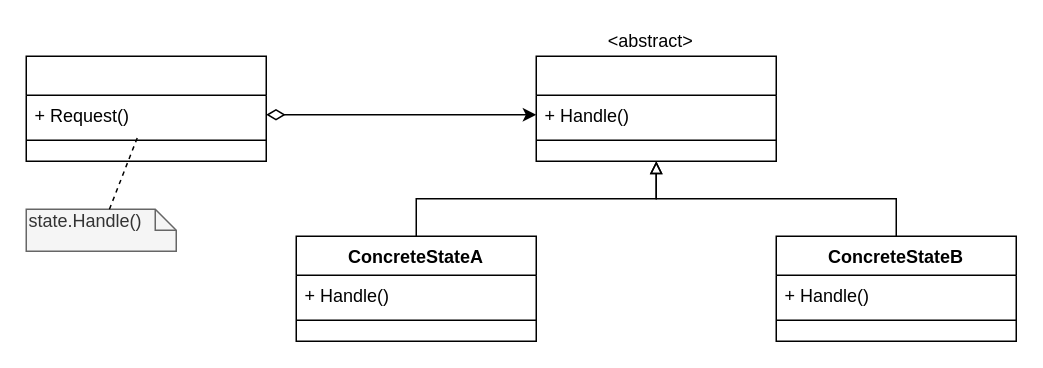
Image size: 1043x368. Some labels were removed from this diagram. The box of each missing label's shape, as (x1, y1, x2, y2) in pixels:
Context: (25, 55, 266, 161)
State: (535, 55, 776, 161)
